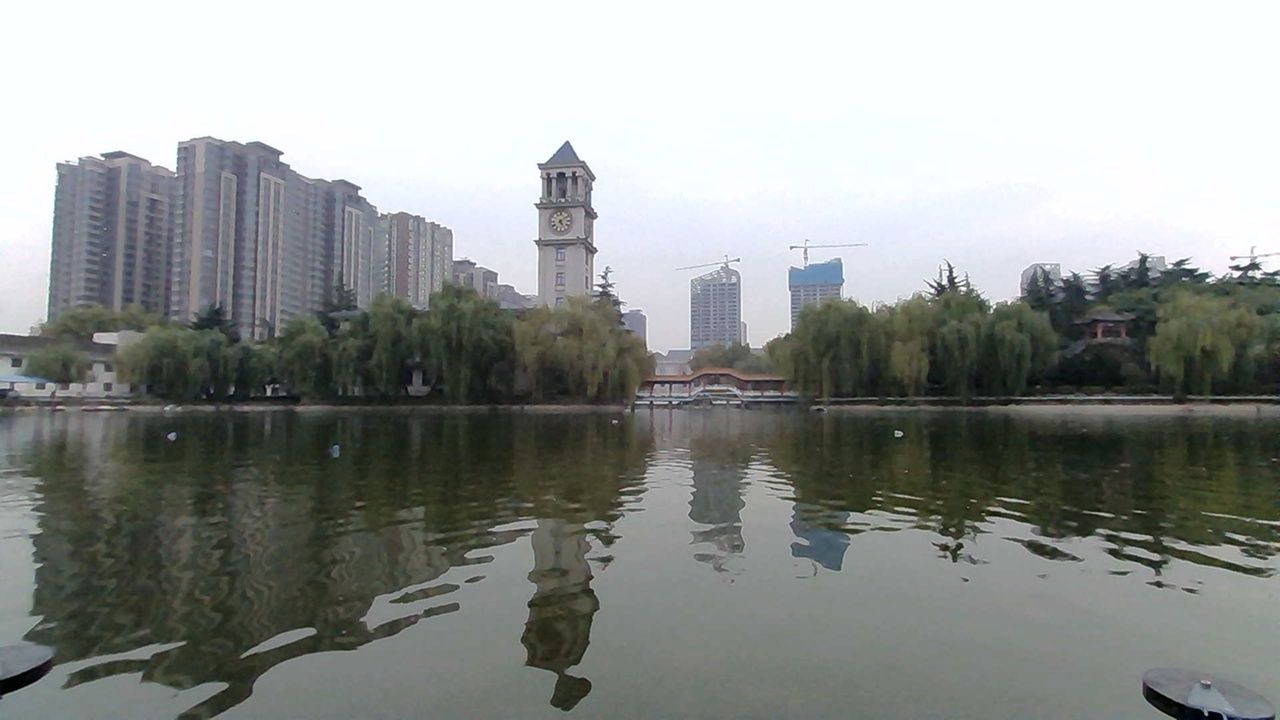bottle: (872, 426, 910, 447), (319, 440, 353, 462), (163, 419, 184, 447)
